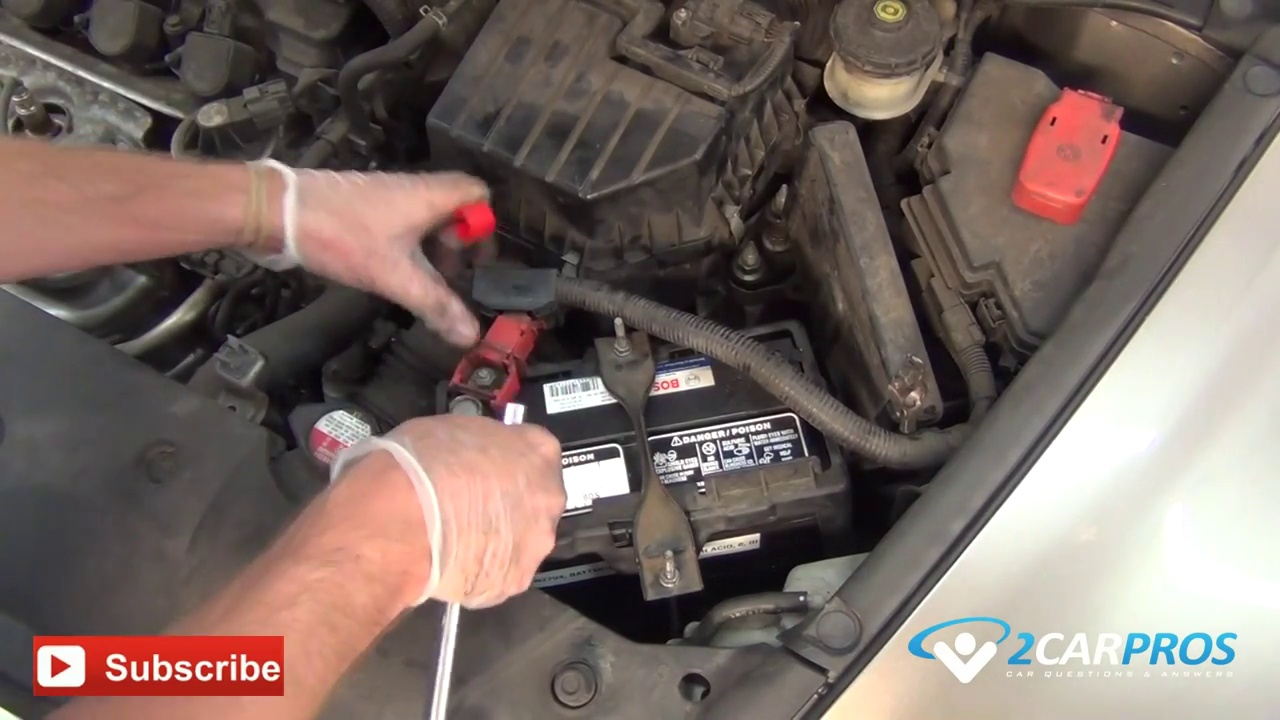battery: (422, 327, 830, 530)
pos_touched: (408, 238, 540, 509)
